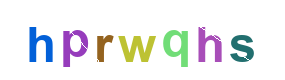H: (0, 0, 80, 80), (131, 0, 211, 80)
P: (62, 0, 142, 80)
Q: (103, 0, 183, 80)
R: (95, 0, 175, 80)
S: (202, 0, 282, 80)
W: (96, 0, 176, 80)
